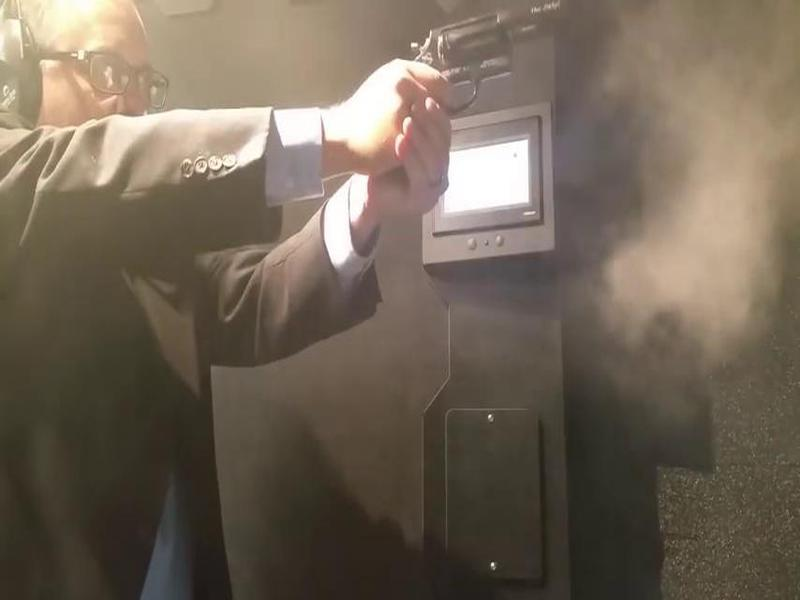Revolver: (391, 1, 583, 128)
